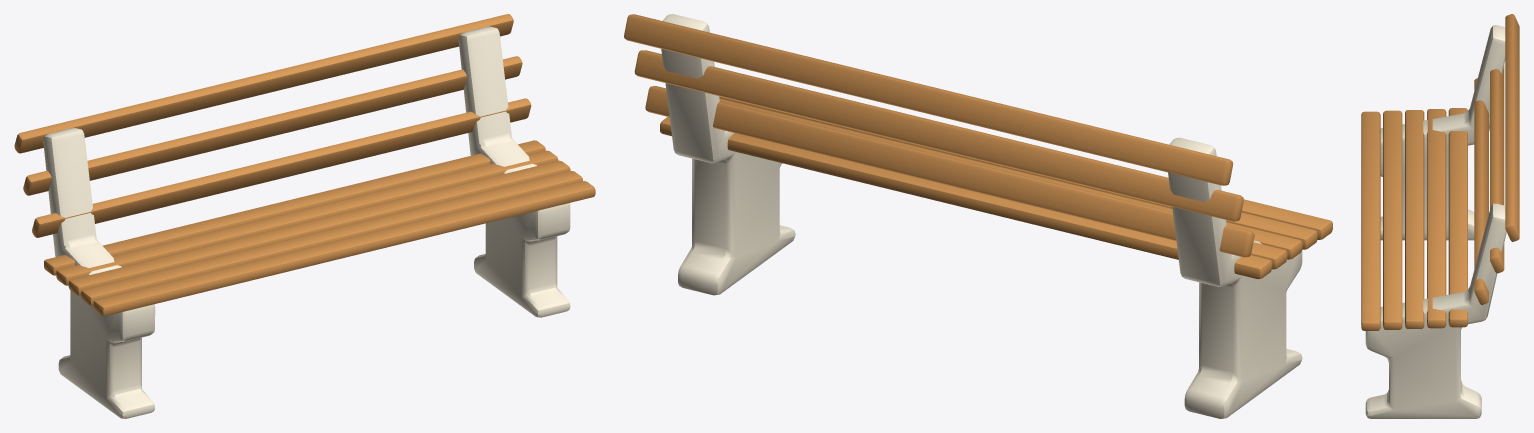
The model's file is banco_calcadao.glb.
3 renders of one model, left to right at view 1: azimuth 30°, elevation 25°; view 2: azimuth 150°, elevation 25°; view 3: azimuth 270°, elevation 25°, orthographic. The views are drawn at different scales.
Parts seen in each view (by area): view 1: banco_calcadao; view 2: banco_calcadao; view 3: banco_calcadao.
Part boxes in pixels (left/top/right/bottom): banco_calcadao: left=14, top=14, right=595, bottom=418; banco_calcadao: left=624, top=14, right=1332, bottom=418; banco_calcadao: left=1361, top=14, right=1519, bottom=418.
Size of the model in its own units: 1.95 by 0.8778 by 0.6156.
Materials: 1 (1 with a texture image).
